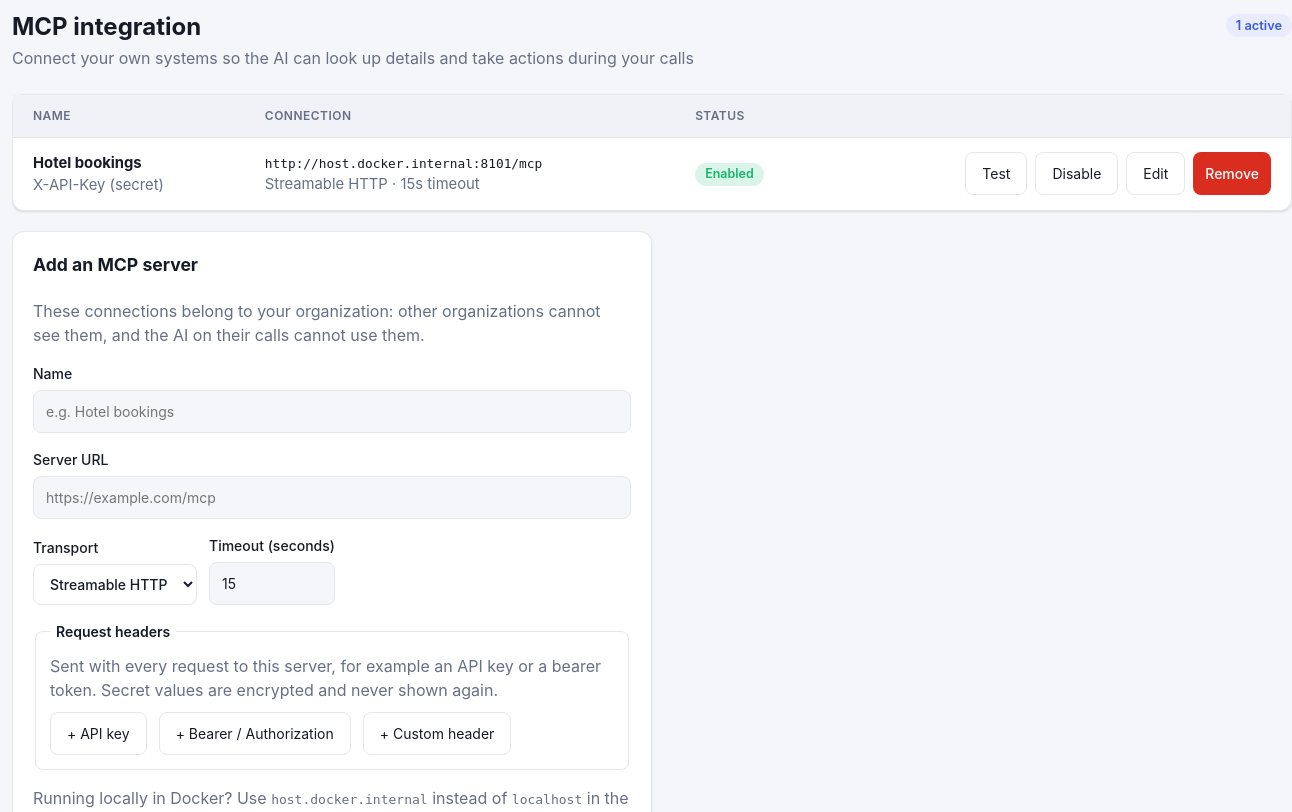
Test: McpPage › reports a failed connection test
The image size is (1292, 812).
Click the button "Test": {"x": 996, "y": 174} [965,152,1027,195]
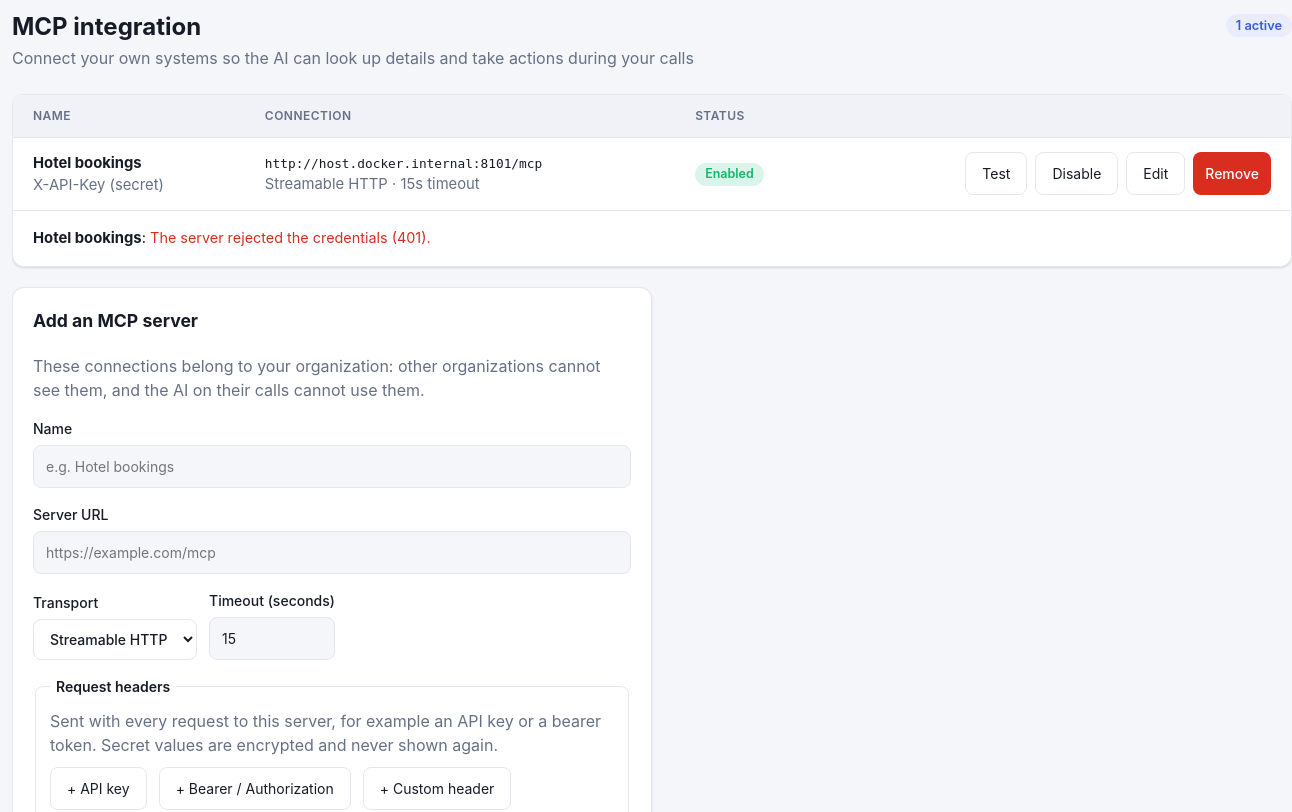
Check: the text "The server rejected the credentials (401)." is shown, box [150,229,430,246]
